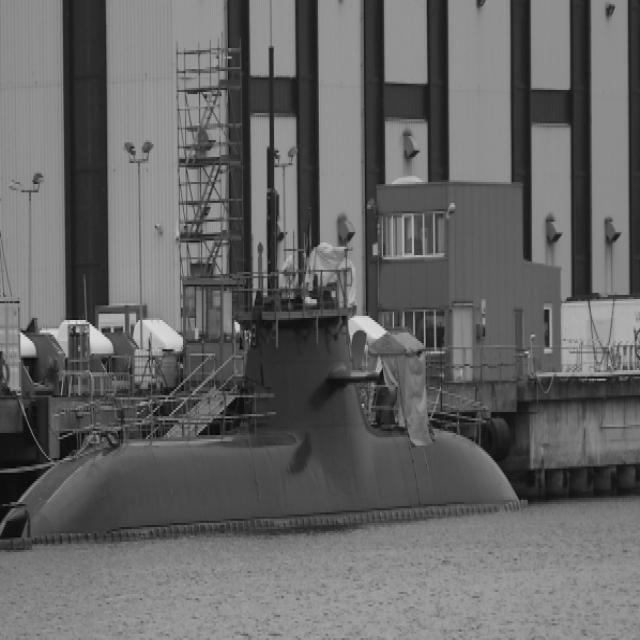submarine: (1, 300, 523, 540)
